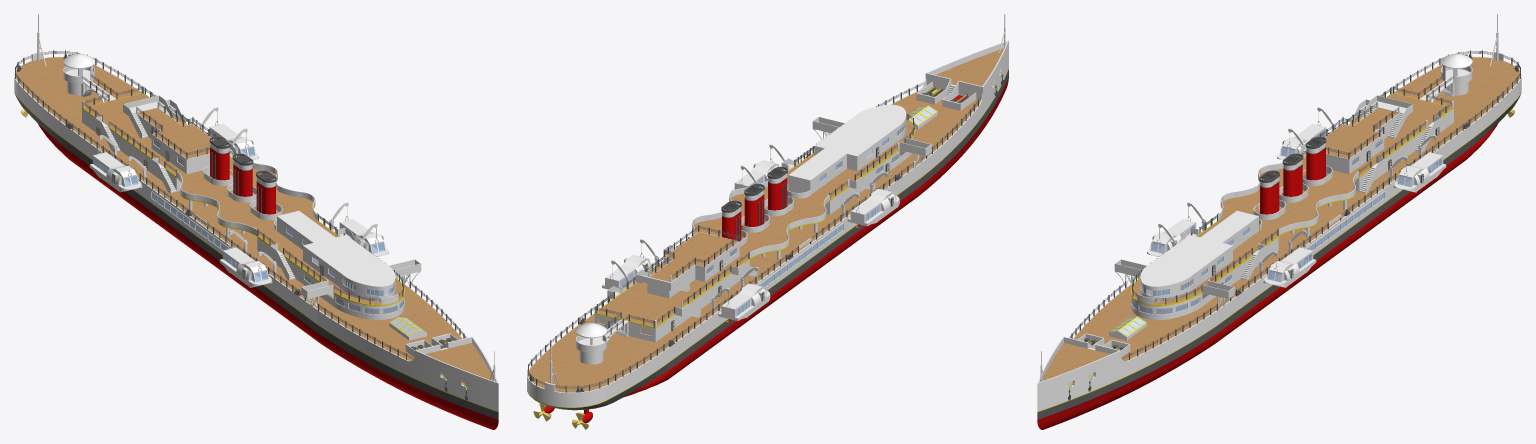
File: Passenger.glb
3 views of the same model, side by side, from view 1: azimuth 30°, elevation 25°; view 2: azimuth 150°, elevation 25°; view 3: azimuth 330°, elevation 25° (orthographic).
Visible parts, largest first — view 1: Material2 (×13), Material3; view 2: Material2 (×12), Material3; view 3: Material2 (×13), Material3.
Part boxes in pixels (x1,y1,x2,y2): Material2 (×13): (14, 51, 498, 429); Material3: (151, 139, 403, 314); Material2 (×12): (527, 40, 1008, 410); Material3: (706, 124, 915, 286); Material2 (×13): (1037, 51, 1521, 429); Material3: (1132, 139, 1384, 314).
Size of the model in its own units: 1039 by 675 by 5959.
Materials: 15 (1 with a texture image).
